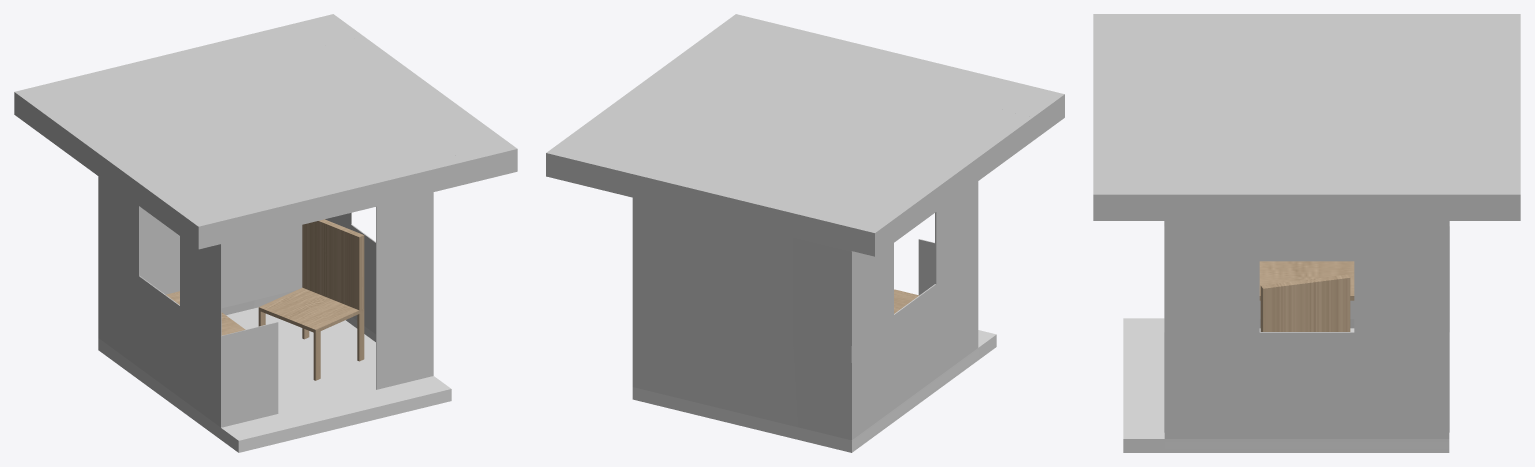
File: Pos Satpam.fbx
The picture shows the model from 3 angles, left to right: view 1: azimuth 30°, elevation 25°; view 2: azimuth 150°, elevation 25°; view 3: azimuth 270°, elevation 25°; orthographic projection. The views are drawn at different scales.
Parts seen in each view (by area): view 1: Cube, Kursi; view 2: Cube; view 3: Cube, Kursi, Meja.
Boxes of the visible parts, x1=… form: Cube: x1=14, y1=14, x2=517, y2=452; Kursi: x1=258, y1=219, x2=364, y2=380; Cube: x1=546, y1=14, x2=1064, y2=452; Cube: x1=1093, y1=14, x2=1520, y2=452; Kursi: x1=1260, y1=274, x2=1350, y2=331; Meja: x1=1259, y1=261, x2=1354, y2=300.
Bounding box in the file's own units: 1200 × 894 × 1200.
